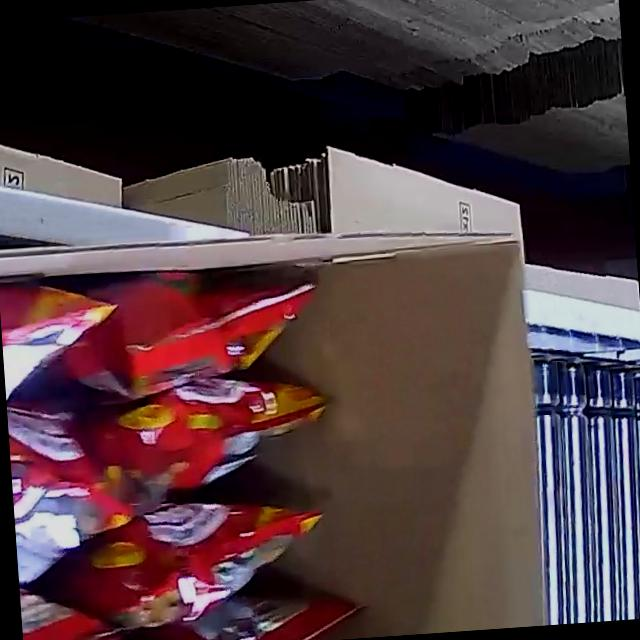masala: (0, 252, 357, 640)
